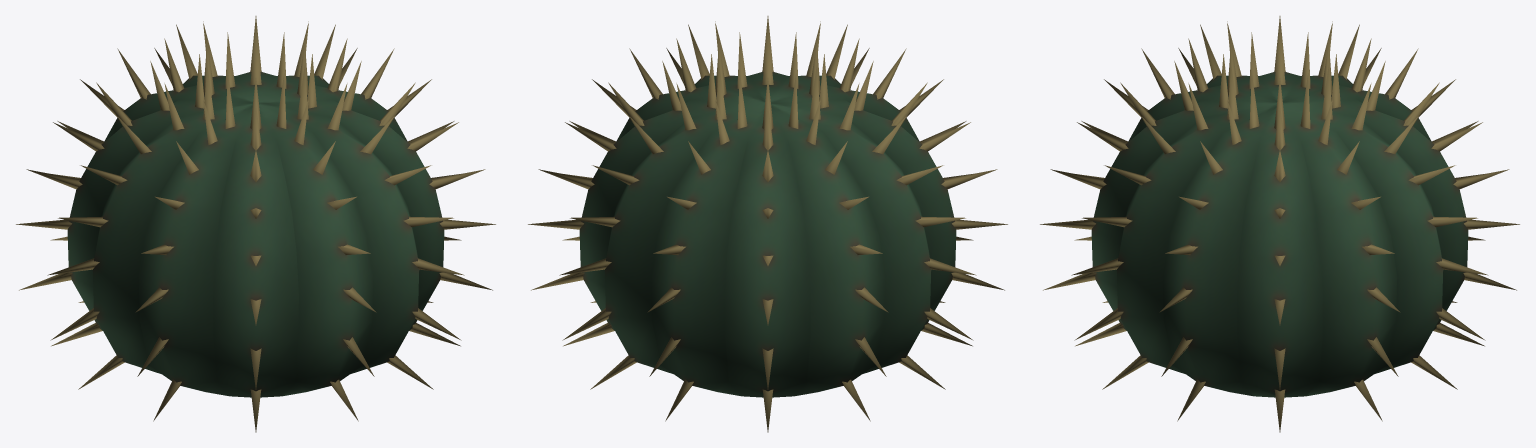
The model's file is sb_obj_nature012_Cactus02a.fbx.
The picture shows the model from 3 angles, left to right: view 1: azimuth 30°, elevation 25°; view 2: azimuth 150°, elevation 25°; view 3: azimuth 270°, elevation 25°; orthographic projection.
Parts seen in each view (by area): view 1: sb_obj_nature012_Cactus02a; view 2: sb_obj_nature012_Cactus02a; view 3: sb_obj_nature012_Cactus02a.
Part boxes in pixels (x1,y1,x2,y2): sb_obj_nature012_Cactus02a: (16,16,495,432); sb_obj_nature012_Cactus02a: (528,16,1007,432); sb_obj_nature012_Cactus02a: (1040,16,1519,432).
Bounding box in the file's own units: 0.9441 × 0.6519 × 0.9441.
